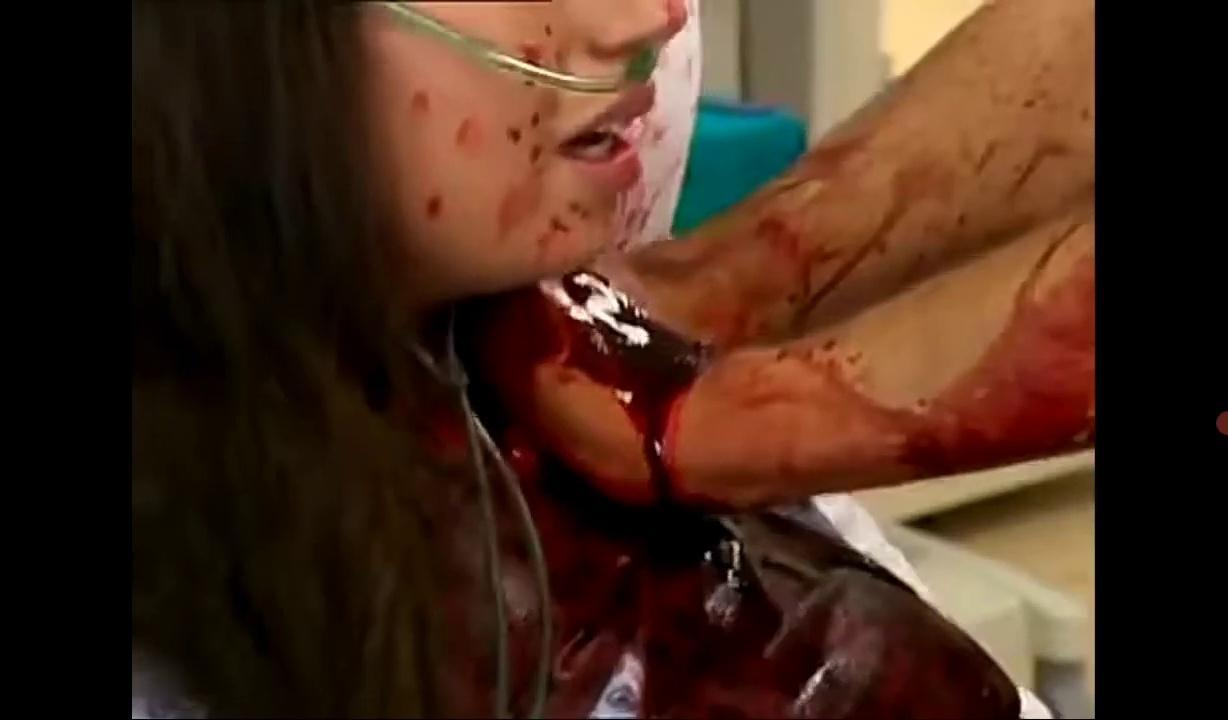Fire: (369, 2, 1094, 718)
